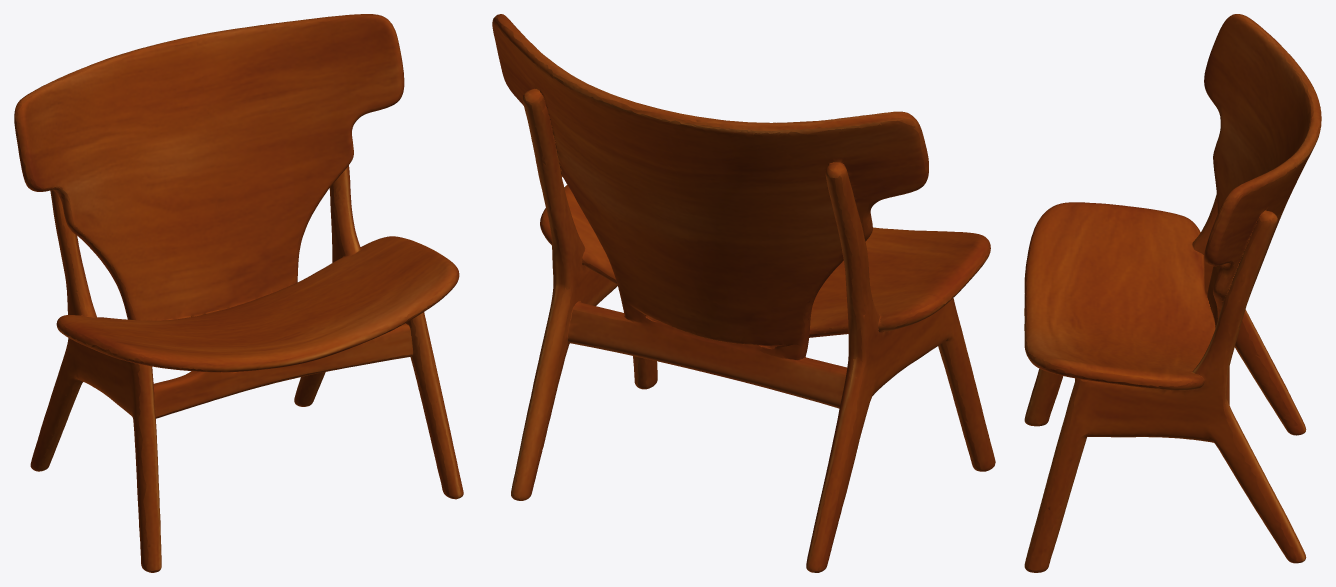
The model's file is item_526d5891.glb.
The picture shows the model from 3 angles, left to right: view 1: azimuth 30°, elevation 25°; view 2: azimuth 150°, elevation 25°; view 3: azimuth 270°, elevation 25°; orthographic projection. The views are drawn at different scales.
Parts seen in each view (by area): view 1: world; view 2: world; view 3: world.
Part boxes in pixels (bbox=[...]): world: bbox=[14, 14, 463, 572]; world: bbox=[492, 14, 995, 572]; world: bbox=[1024, 14, 1321, 572].
Size of the model in its own units: 0.8199 by 0.82 by 0.5565.
Materials: 1 (1 with a texture image).
